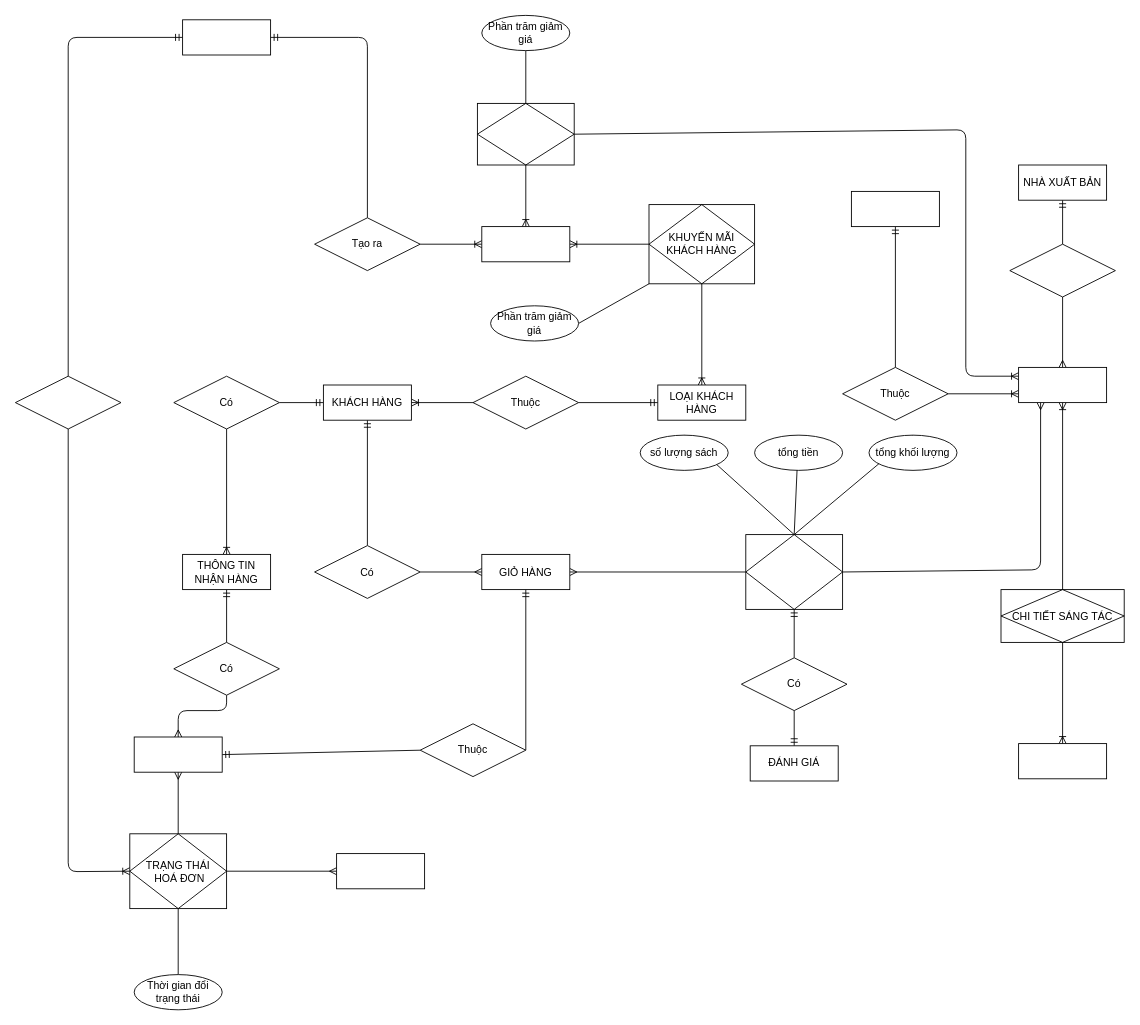
Some shapes in this 1140 by 1025 pixel diagram are drawn without their labels. Here are the shapes that lost their labels. From the top down, the centre of each, then its label:
point 226,37: NHÂN VIÊN
point 525,134: KHUYẾN MÃI SÁCH
point 895,209: LOẠI SÁCH
point 525,244: KHUYẾN MÃI
point 1062,270: Xuất bản
point 68,402: Thay đổi
point 1062,385: SÁCH
point 794,571: CHI TIẾT GIỎ HÀNG
point 177,754: HOÁ ĐƠN
point 1062,761: TÁC GIẢ
point 380,871: TRẠNG THÁI
